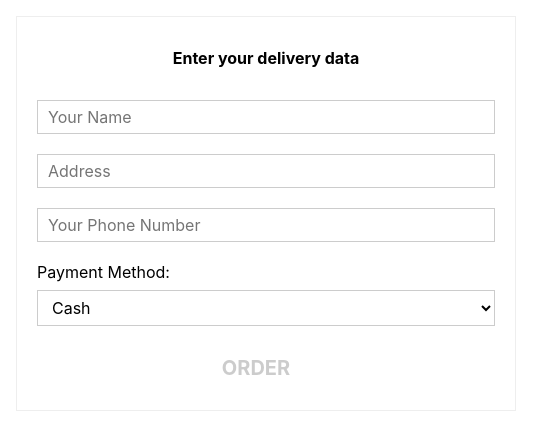
should render enabled button when inputs have correct values
The width and height of the screenshot is (533, 428).
Click the field with placeholder "Your Name" at coordinates (266, 116), box [37,100,495,134]
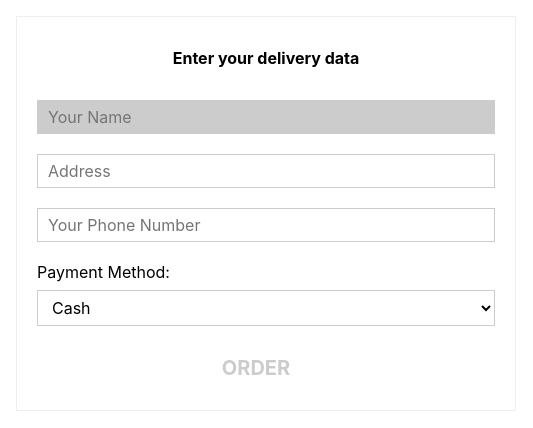
Type keys "test name"
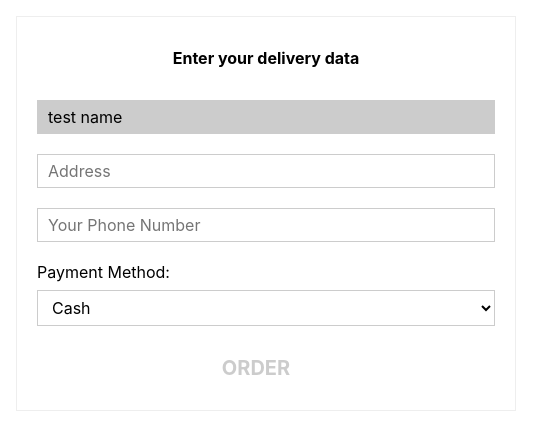
Click the field with placeholder "Address" at coordinates (266, 170), box [37,154,495,188]
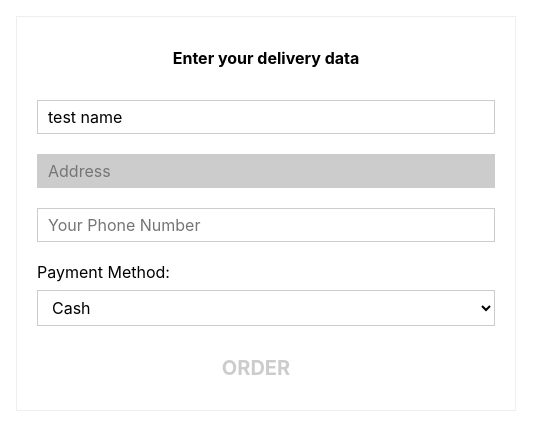
Type keys "street 1/2"
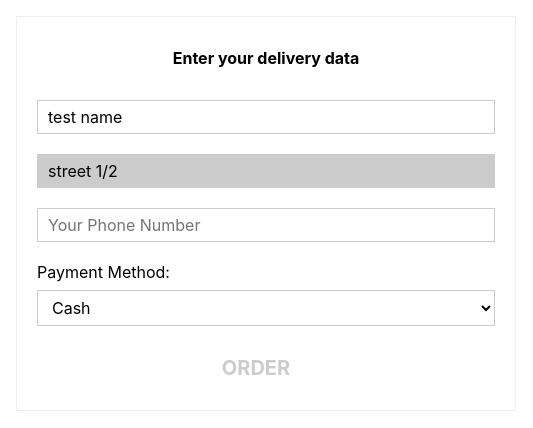
Click the field with placeholder "Your Phone Number" at coordinates (266, 224), box [37,208,495,242]
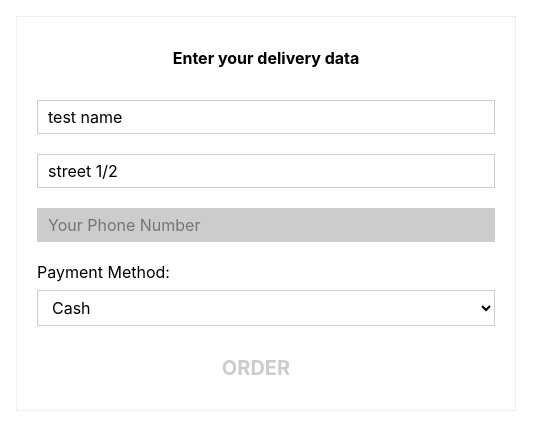
Type keys "1234567"
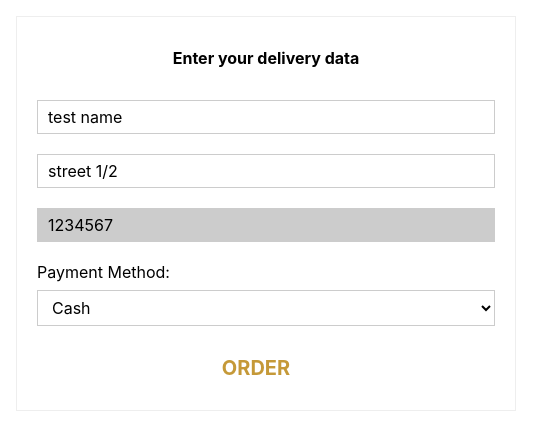
Expected: the button is enabled, [222,346,300,390]
